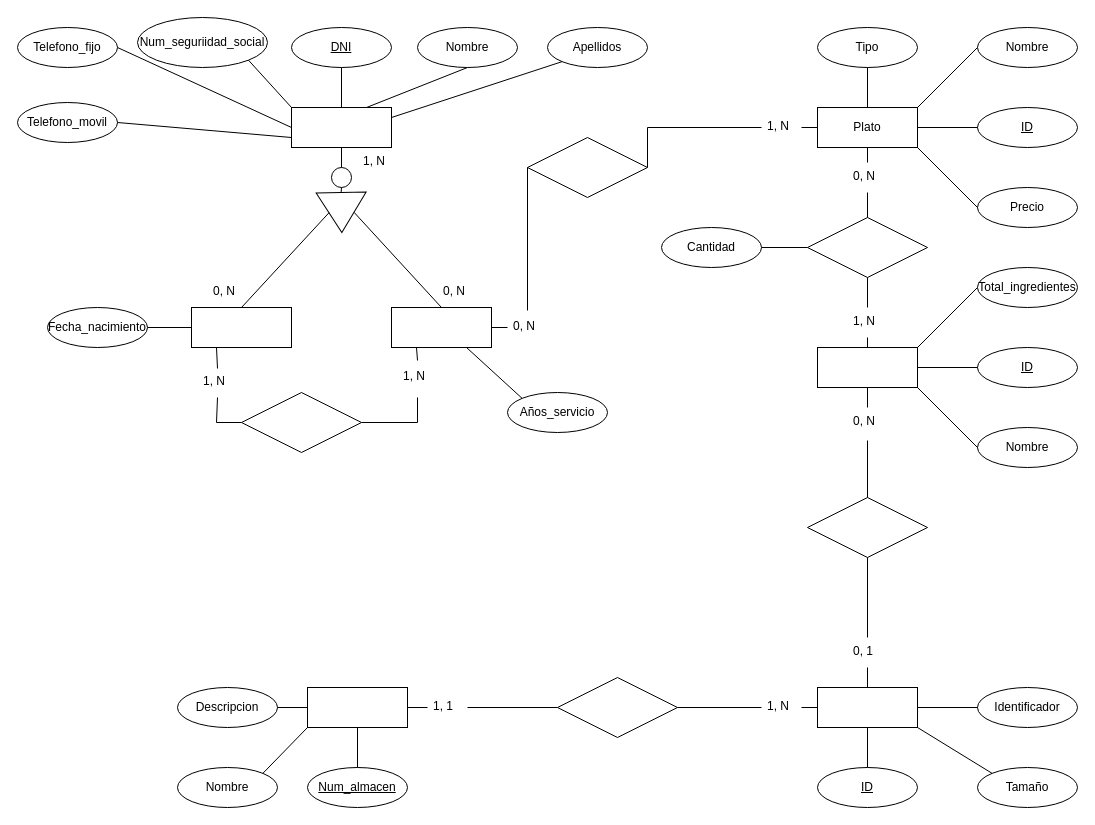
The diagram is 1095 pixels wide and 825 high, and some of its shapes have lost their labels. Here are the shapes that lost their labels. From the top down, the centre of each, then its label:
At pixel 341 127: "Empleado".
At pixel 587 167: "Preparar".
At pixel 867 247: "Necesitar".
At pixel 241 327: "Pinche".
At pixel 441 327: "Cocinero".
At pixel 867 367: "Ingrediente".
At pixel 301 422: "Responsabilizar".
At pixel 867 527: "Guardar".
At pixel 357 707: "Almacen".
At pixel 617 707: "Ubicar".
At pixel 867 707: "Estante".
